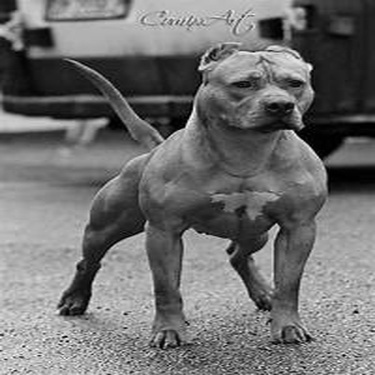dog: (48, 34, 333, 358)
